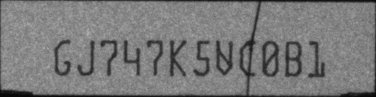0: (260, 38, 279, 77)
1: (307, 38, 326, 77)
4: (99, 39, 118, 76), (122, 38, 140, 75)
5: (192, 39, 211, 77)
7: (145, 39, 162, 75)
B: (284, 40, 304, 78)
C: (239, 40, 257, 76)
G: (53, 37, 72, 75)
J: (76, 39, 94, 75)
K: (168, 38, 187, 77)
V: (215, 39, 235, 76)
